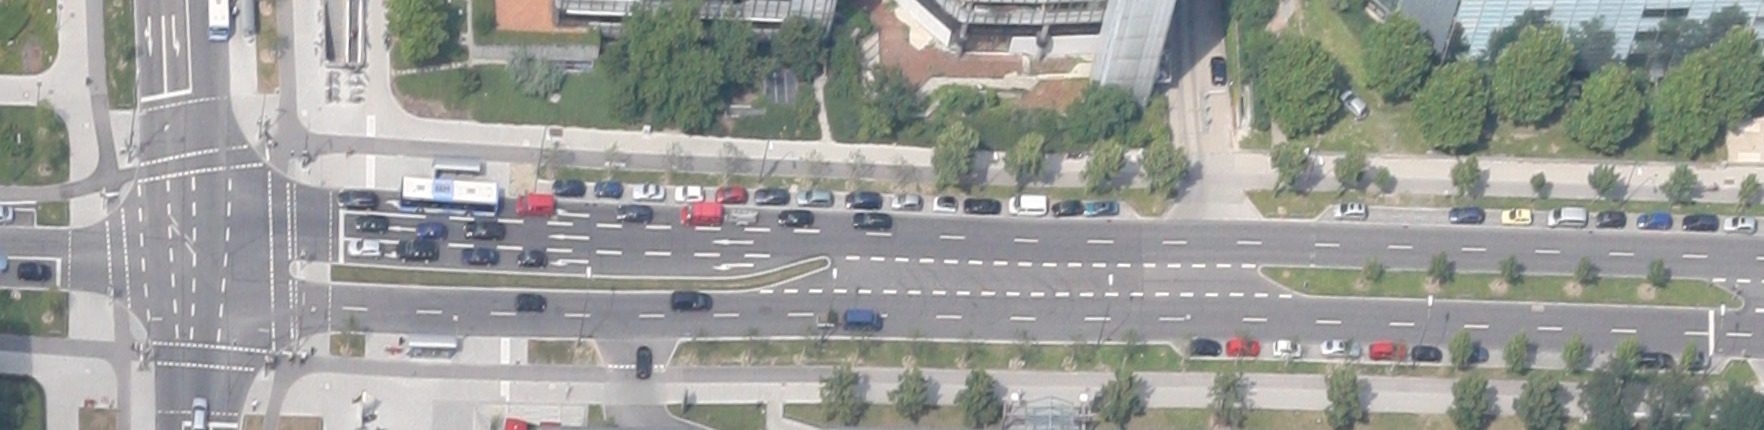car: (1336, 88, 1369, 120), (679, 201, 721, 226), (398, 238, 438, 262), (841, 308, 882, 331), (515, 192, 552, 216), (1547, 205, 1585, 227), (1008, 192, 1046, 215), (670, 290, 712, 311), (1318, 337, 1360, 357), (336, 188, 376, 209), (463, 220, 504, 239), (850, 210, 890, 230), (1682, 210, 1718, 231), (348, 238, 382, 258), (845, 189, 880, 209), (615, 203, 651, 222), (1368, 341, 1406, 359), (461, 247, 498, 265), (1448, 205, 1484, 223), (17, 261, 51, 280), (753, 187, 787, 205), (514, 292, 544, 312), (776, 209, 812, 226), (1636, 210, 1669, 229), (963, 197, 999, 214), (355, 214, 387, 233), (516, 248, 548, 267), (1333, 200, 1365, 220), (634, 344, 651, 379), (796, 189, 831, 206), (715, 185, 746, 204), (1272, 337, 1300, 357), (416, 220, 445, 239), (1722, 215, 1755, 232), (1084, 199, 1117, 216), (1189, 337, 1219, 355), (1411, 343, 1441, 361), (1594, 210, 1624, 229), (632, 182, 663, 200), (593, 179, 621, 198), (1225, 338, 1257, 355), (1500, 207, 1531, 224), (190, 396, 206, 429), (891, 192, 921, 209), (1053, 198, 1081, 216), (673, 183, 701, 201), (553, 178, 583, 195), (1210, 56, 1226, 86), (728, 208, 755, 225), (933, 194, 956, 210), (814, 310, 837, 326)
